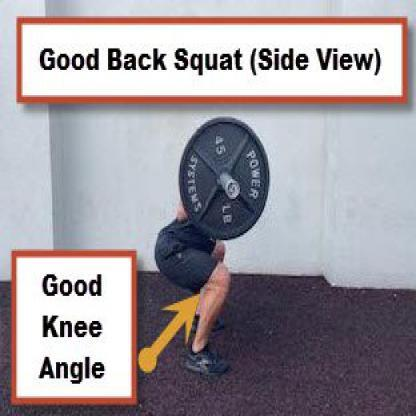Barbell: (225, 180, 243, 203)
